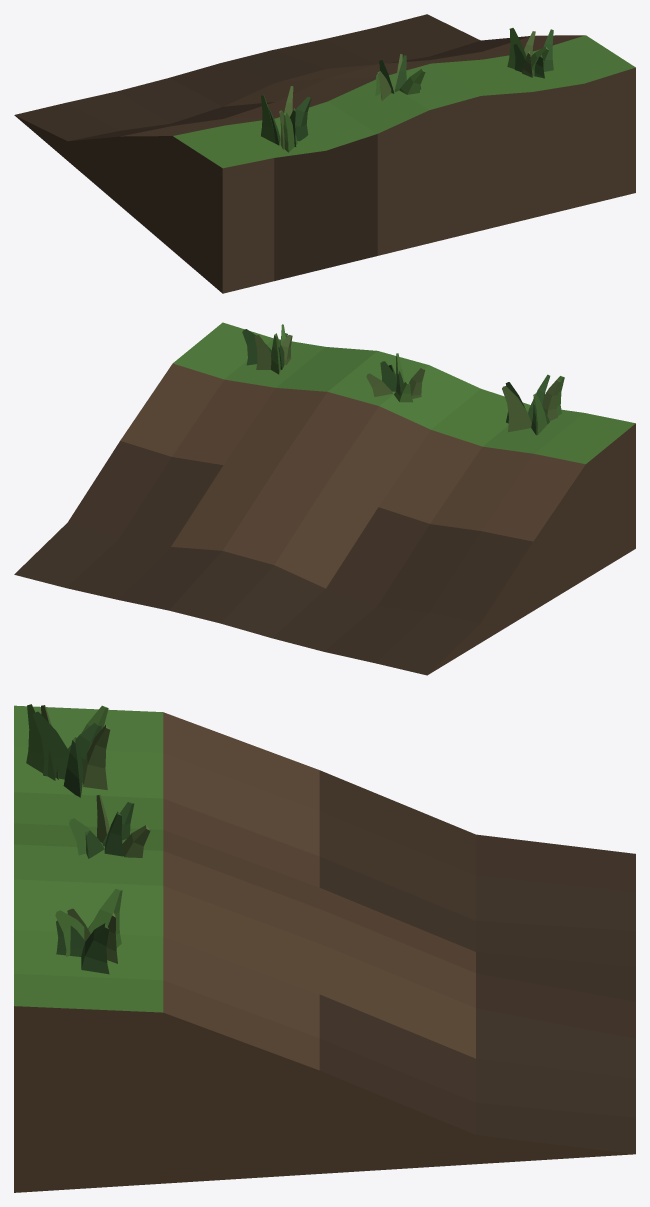
Rendered from mdvl_nature_bank_01.glb.
3 views of the same model, one above another, from view 1: azimuth 30°, elevation 25°; view 2: azimuth 150°, elevation 25°; view 3: azimuth 270°, elevation 25° (orthographic). The views are drawn at different scales.
Parts seen in each view (by area): view 1: mdvl_nature_bank_01; view 2: mdvl_nature_bank_01; view 3: mdvl_nature_bank_01.
Part boxes in pixels (x1,y1,x2,y2): mdvl_nature_bank_01: (14, 14, 635, 293); mdvl_nature_bank_01: (14, 322, 635, 675); mdvl_nature_bank_01: (14, 704, 635, 1192).
Bounding box in the file's own units: 2 × 0.746 × 1.75.
Materials: 1 (1 with a texture image).
